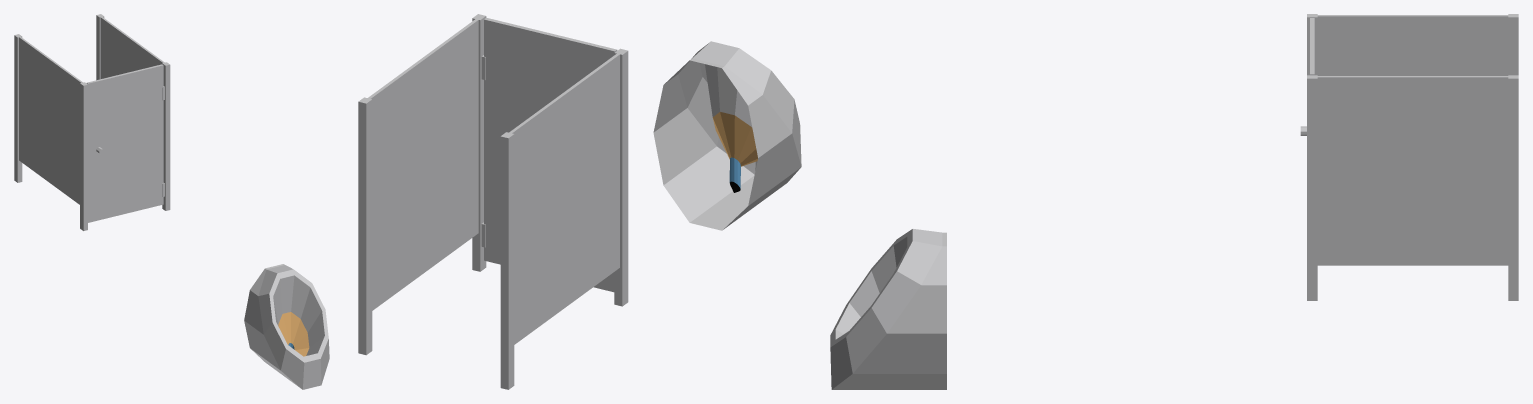
File: KibelPisuar.fbx
The picture shows the model from 3 angles, left to right: view 1: azimuth 30°, elevation 25°; view 2: azimuth 150°, elevation 25°; view 3: azimuth 270°, elevation 25°; orthographic projection. The views are drawn at different scales.
Visible parts, largest first — view 1: Kibel, Door, Pisuar; view 2: Kibel, Pisuar, Door; view 3: Kibel, Pisuar.
Boxes of the visible parts, x1=… form: Kibel: x1=14, y1=14, x2=170, y2=230; Door: x1=86, y1=64, x2=163, y2=222; Pisuar: x1=244, y1=264, x2=329, y2=389; Kibel: x1=358, y1=14, x2=628, y2=389; Pisuar: x1=653, y1=41, x2=801, y2=230; Door: x1=484, y1=17, x2=617, y2=292; Kibel: x1=1307, y1=14, x2=1518, y2=300; Pisuar: x1=830, y1=229, x2=946, y2=389.
Size of the model in its own units: 175 by 334 by 662.
1 material, 1 textured.
